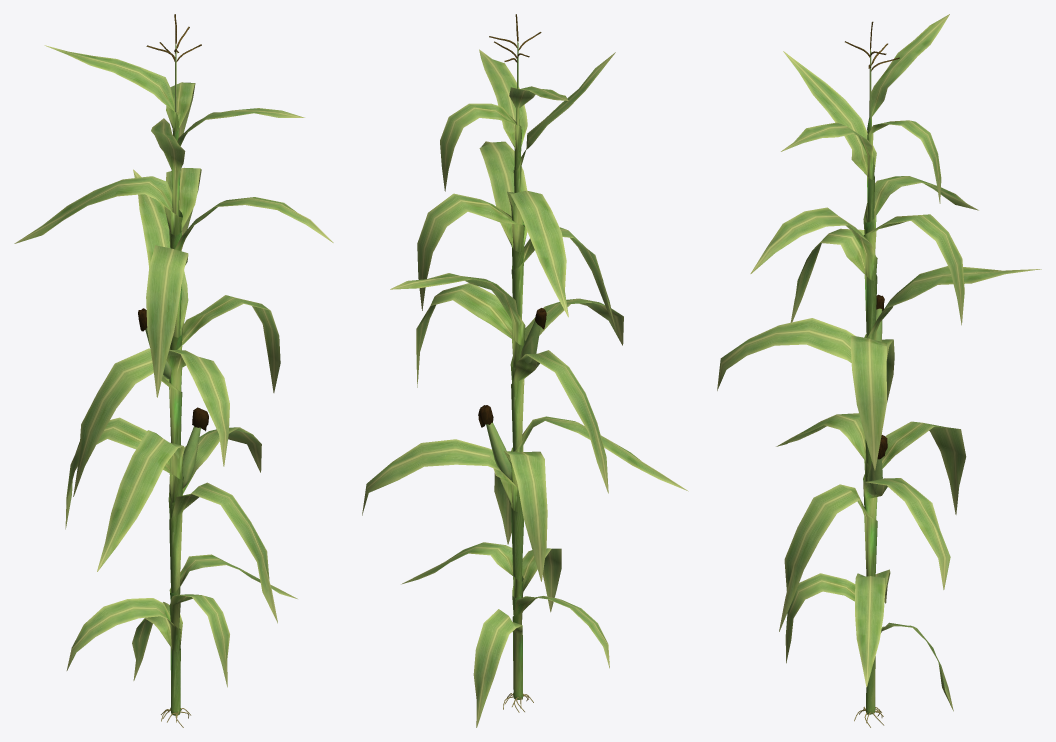
Rendered from Prototype_Maize01.fbx.
3 renders of one model, left to right at view 1: azimuth 30°, elevation 25°; view 2: azimuth 150°, elevation 25°; view 3: azimuth 270°, elevation 25°, orthographic.
Parts seen in each view (by area): view 1: defaultMaterial.005; view 2: defaultMaterial.005; view 3: defaultMaterial.005.
Part boxes in pixels (<box>): defaultMaterial.005: <box>14,14,333,727</box>; defaultMaterial.005: <box>362,14,688,727</box>; defaultMaterial.005: <box>717,14,1041,727</box>.
Bounding box in the file's own units: 97.52 × 265 × 111.
